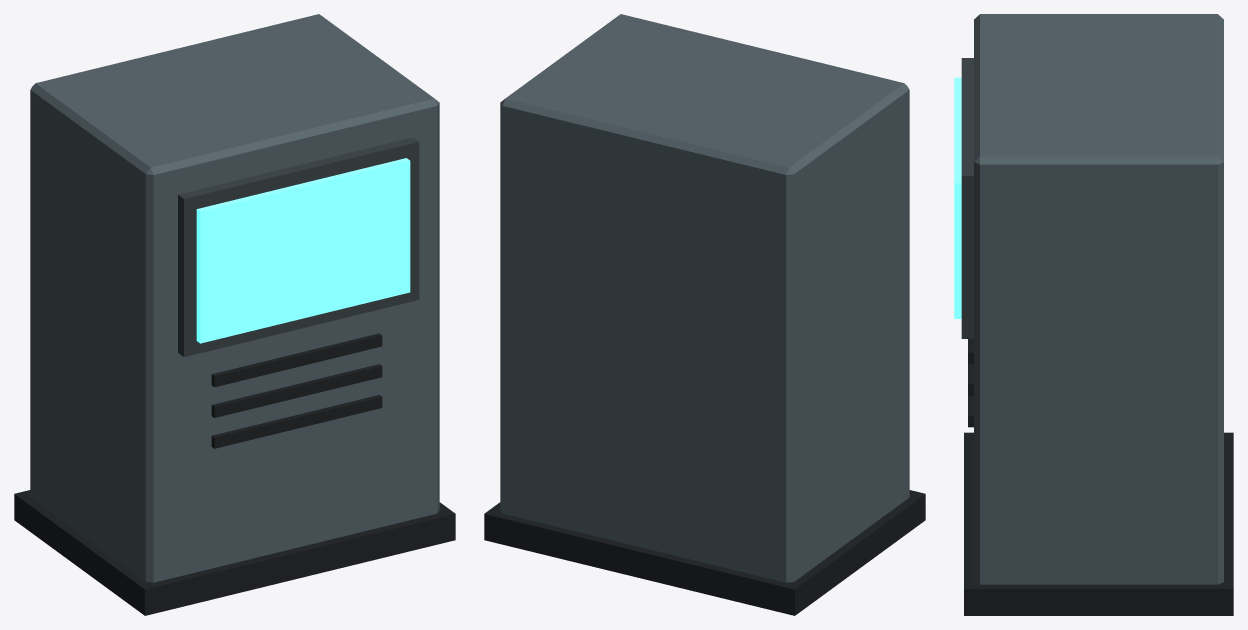
The model's file is lab_console_a.glb.
The picture shows the model from 3 angles, left to right: view 1: azimuth 30°, elevation 25°; view 2: azimuth 150°, elevation 25°; view 3: azimuth 270°, elevation 25°; orthographic projection. The views are drawn at different scales.
Parts seen in each view (by area): view 1: lab_console_a, emit_screen; view 2: lab_console_a; view 3: lab_console_a, emit_screen.
Boxes of the visible parts, box(x1,y1,x2,y2) form: lab_console_a: box(14, 14, 455, 615); emit_screen: box(196, 158, 410, 343); lab_console_a: box(484, 14, 925, 615); lab_console_a: box(961, 14, 1233, 615); emit_screen: box(954, 77, 961, 318).
Size of the model in its own units: 0.74 by 1 by 0.56.
